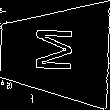M_W: (32, 29, 77, 77)
